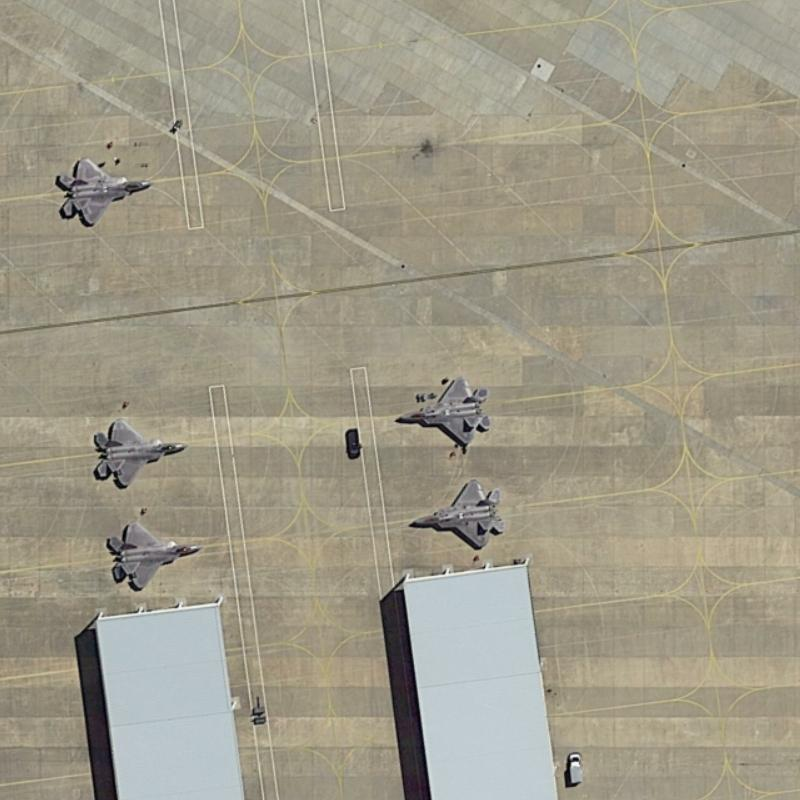A15: (390, 366, 498, 451), (404, 468, 510, 553), (48, 150, 156, 231), (86, 413, 189, 493), (101, 515, 203, 592)
